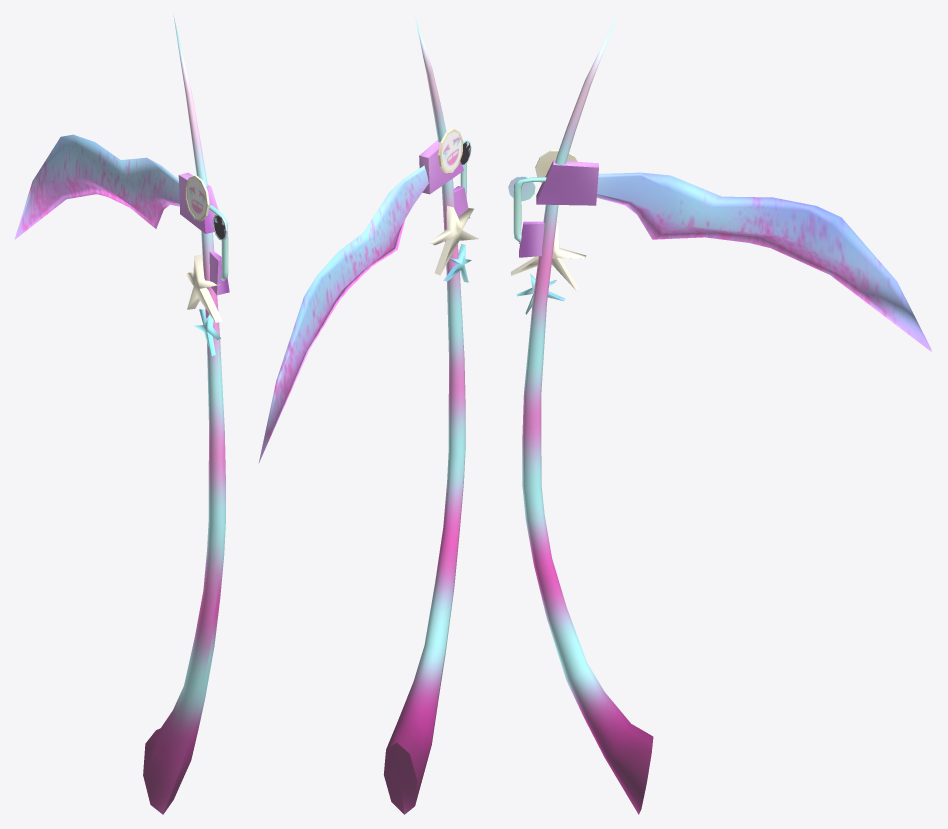
File: pickaxe.glb
3 renders of one model, left to right at view 1: azimuth 30°, elevation 25°; view 2: azimuth 150°, elevation 25°; view 3: azimuth 270°, elevation 25°, orthographic.
Parts seen in each view (by area): view 1: pasted__pasted__nurbsToPoly2; view 2: pasted__pasted__nurbsToPoly2; view 3: pasted__pasted__nurbsToPoly2.
Part boxes in pixels (x1,y1,x2,y2): pasted__pasted__nurbsToPoly2: (14,16,229,814); pasted__pasted__nurbsToPoly2: (258,16,478,814); pasted__pasted__nurbsToPoly2: (508,15,933,814).
Size of the model in its own units: 0.2723 by 5.86 by 2.82.
1 material, 1 textured.
